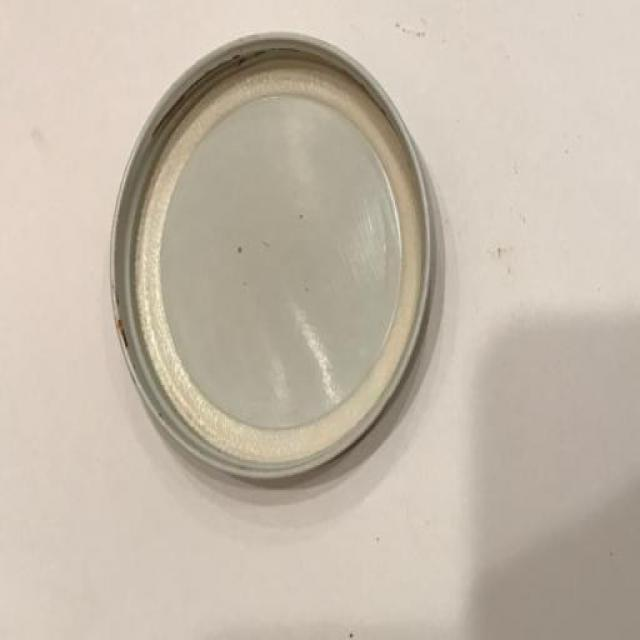metel: (104, 24, 438, 495)
